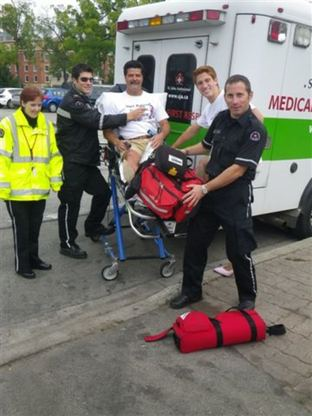ambulance: (114, 0, 312, 238)
car: (41, 87, 71, 114), (0, 86, 26, 112)
